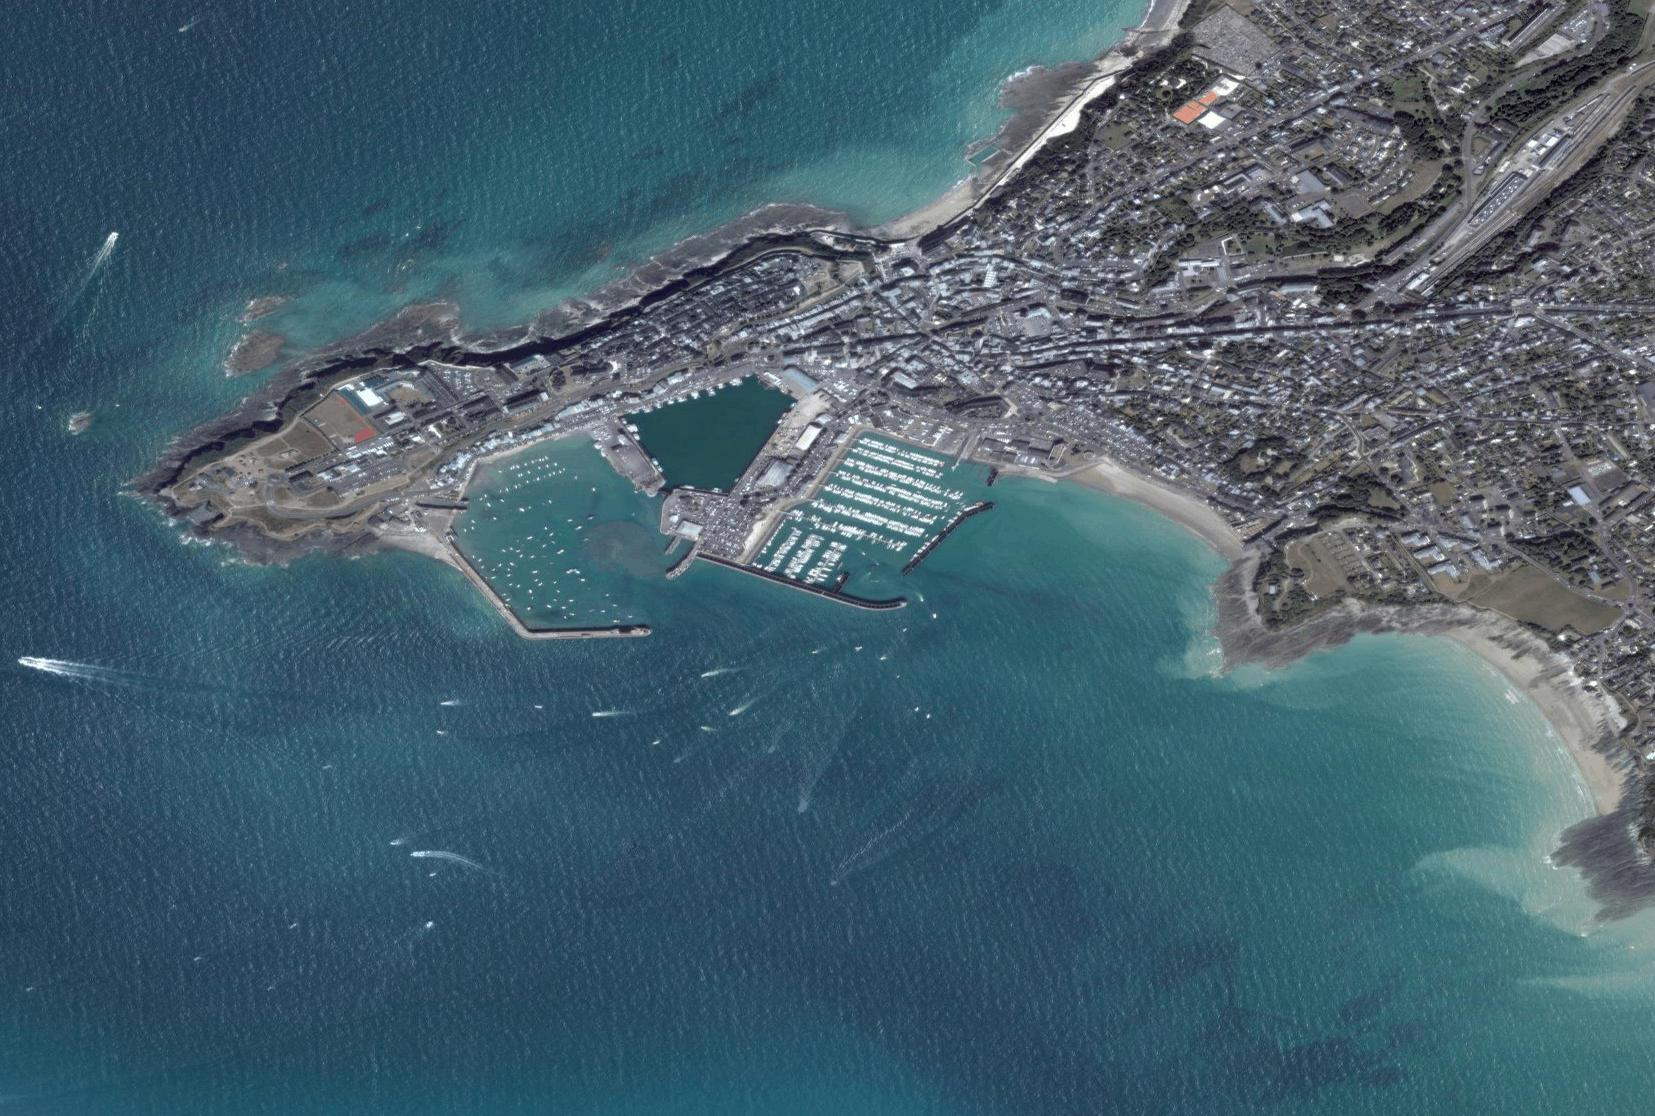harbor: (411, 382, 1012, 684)
train_station: (1435, 78, 1625, 257)
